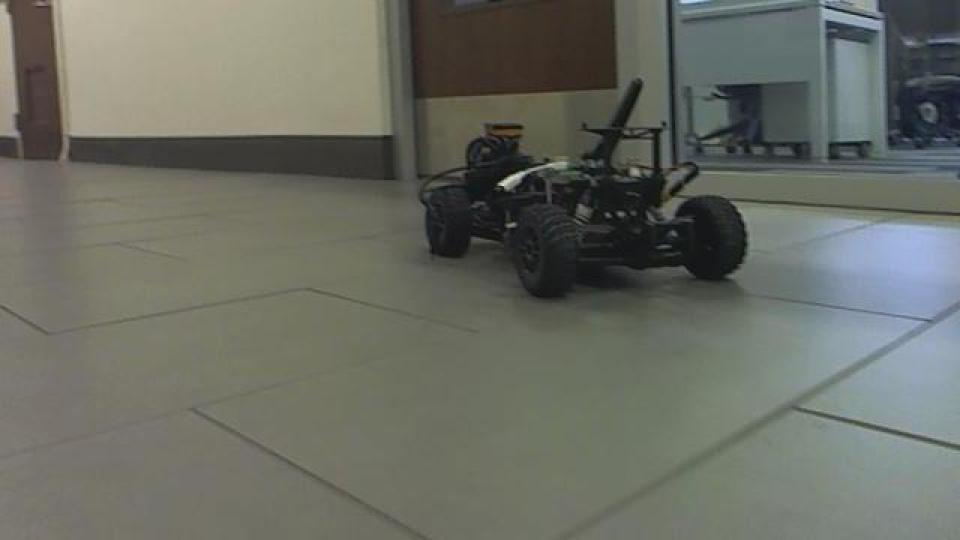car: (416, 75, 750, 300)
